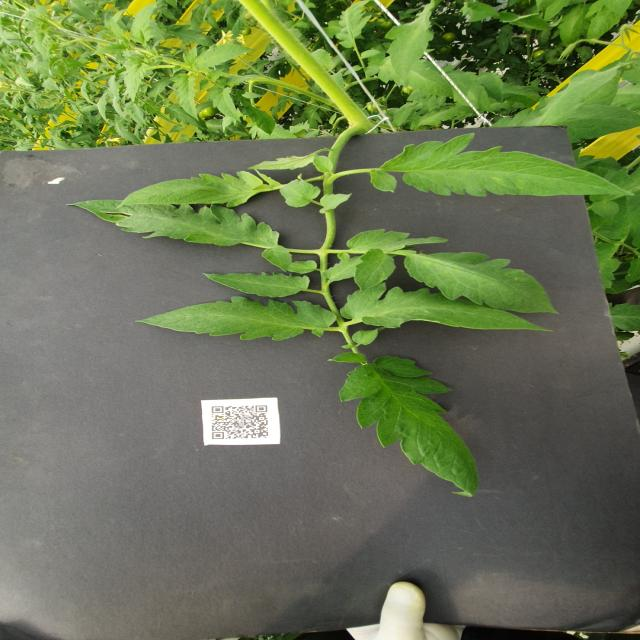Healthy Leaf: (338, 357, 482, 501), (370, 133, 636, 199), (340, 284, 555, 334), (66, 200, 281, 247), (405, 253, 562, 317), (136, 297, 338, 343), (114, 169, 289, 209), (384, 20, 436, 88), (203, 273, 311, 299), (348, 229, 451, 253), (584, 1, 636, 40), (354, 249, 397, 293), (334, 1, 373, 49), (194, 45, 256, 71), (172, 74, 201, 123), (207, 88, 245, 125), (124, 56, 152, 105), (280, 179, 322, 209), (129, 1, 156, 47), (324, 254, 366, 282), (247, 154, 316, 171), (245, 107, 277, 137), (262, 246, 294, 273), (320, 194, 354, 215)
